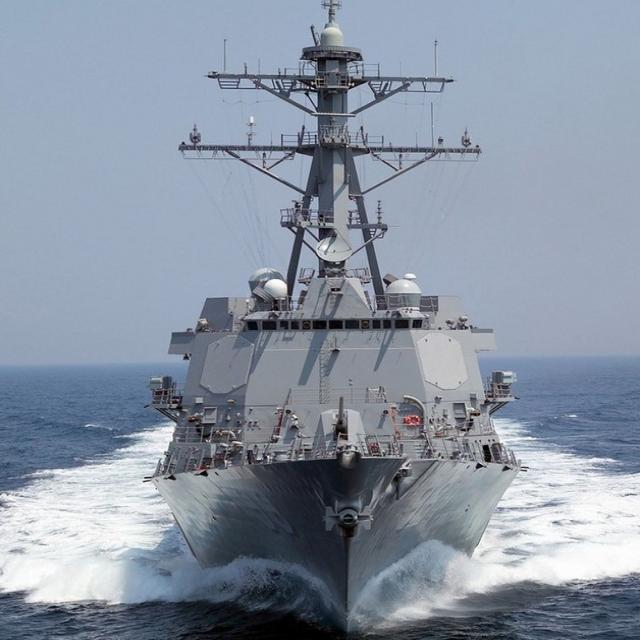navalvessels: (32, 0, 514, 578)
